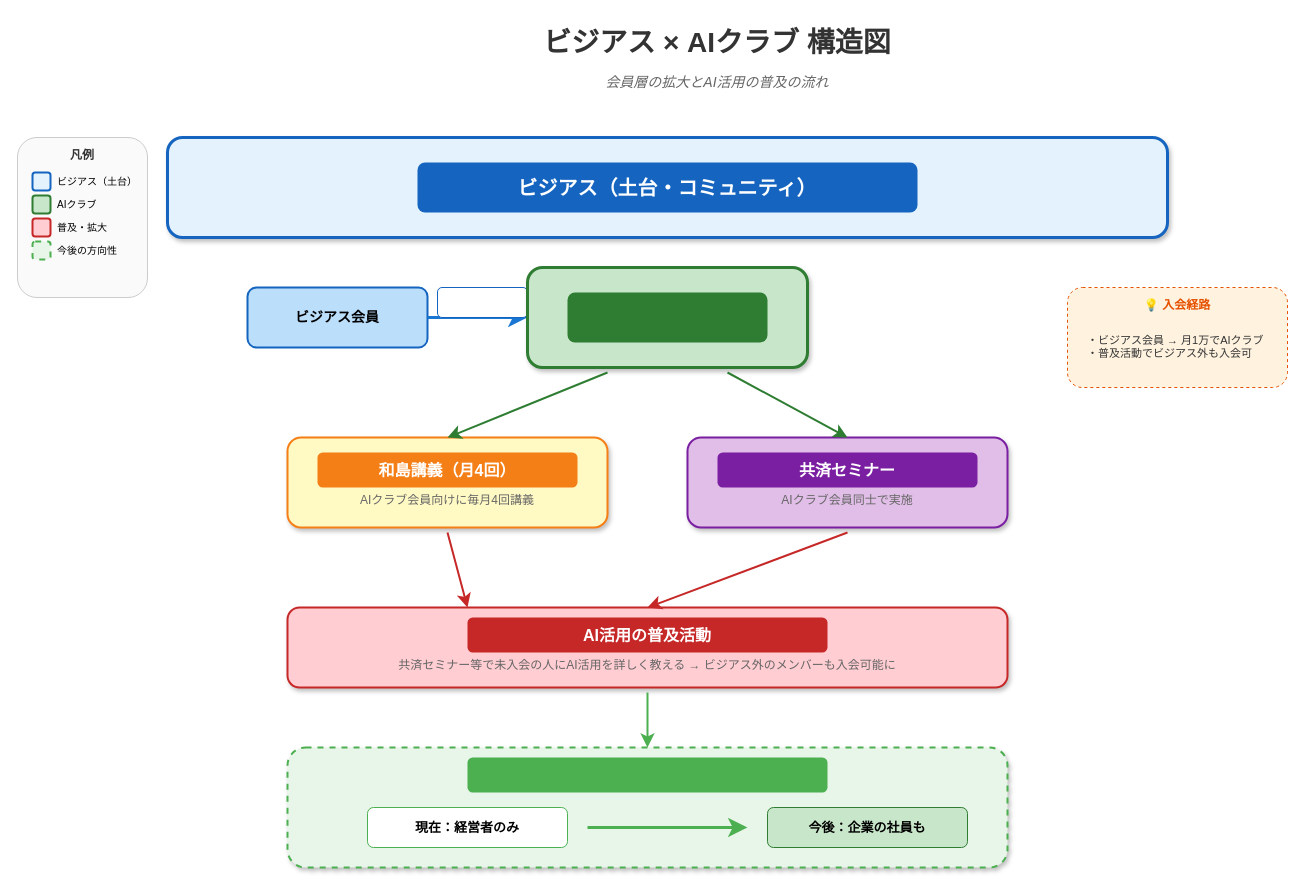
This 1305x892 diagram has some shape labels left out. Each missing label, with the centre of its shape:
"AIクラブ入会" goes at (667,317).
"対象の拡大（今後の方向性）" goes at (647,774).
"月1万円" goes at (482,302).
